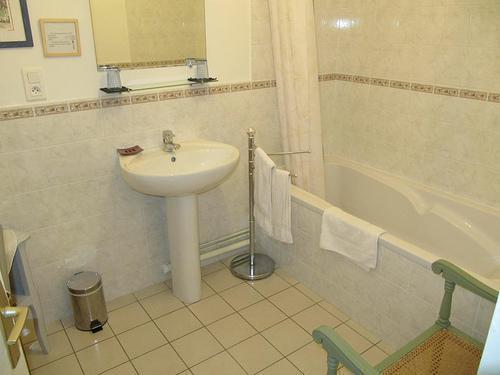Lavamanos: (116, 125, 244, 304)
Otro Obstaculo: (62, 267, 110, 332)
